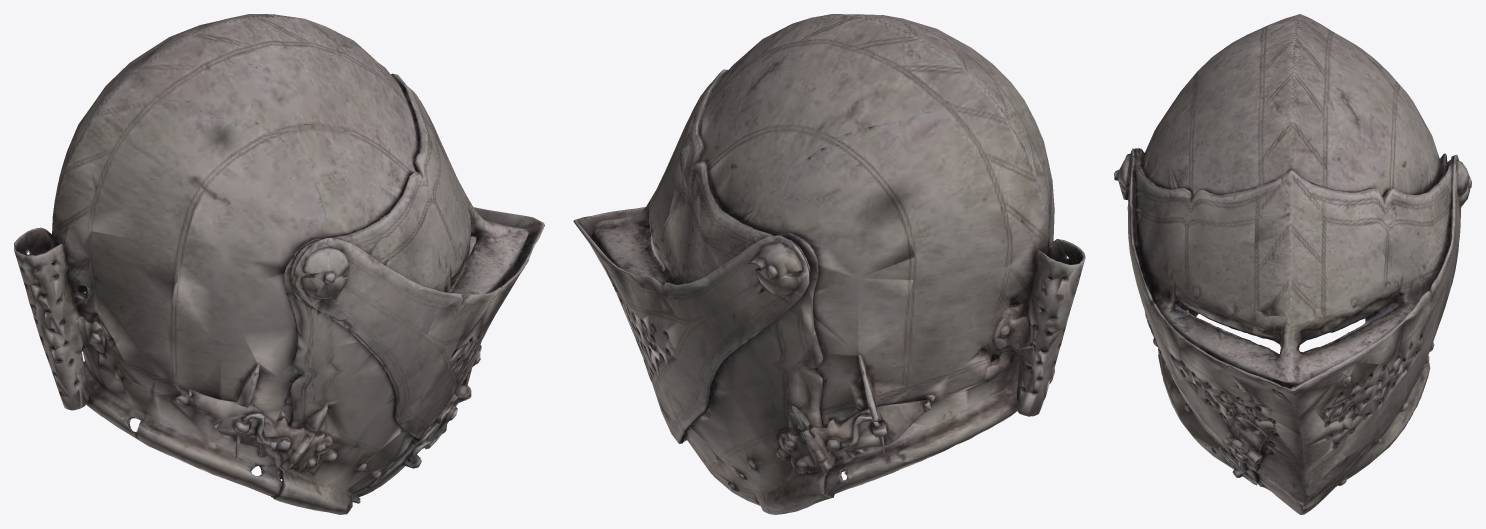
Rendered from manifesto.glb.
The picture shows the model from 3 angles, left to right: view 1: azimuth 30°, elevation 25°; view 2: azimuth 150°, elevation 25°; view 3: azimuth 270°, elevation 25°; orthographic projection. The views are drawn at different scales.
Parts seen in each view (by area): view 1: Object_2; view 2: Object_2; view 3: Object_2.
Boxes of the visible parts, x1,y1,x2,y2 form: Object_2: (14,14,544,514); Object_2: (573,14,1085,514); Object_2: (1114,14,1471,514).
Size of the model in its own units: 1.09 by 1.02 by 0.7704.
1 material, 1 textured.
